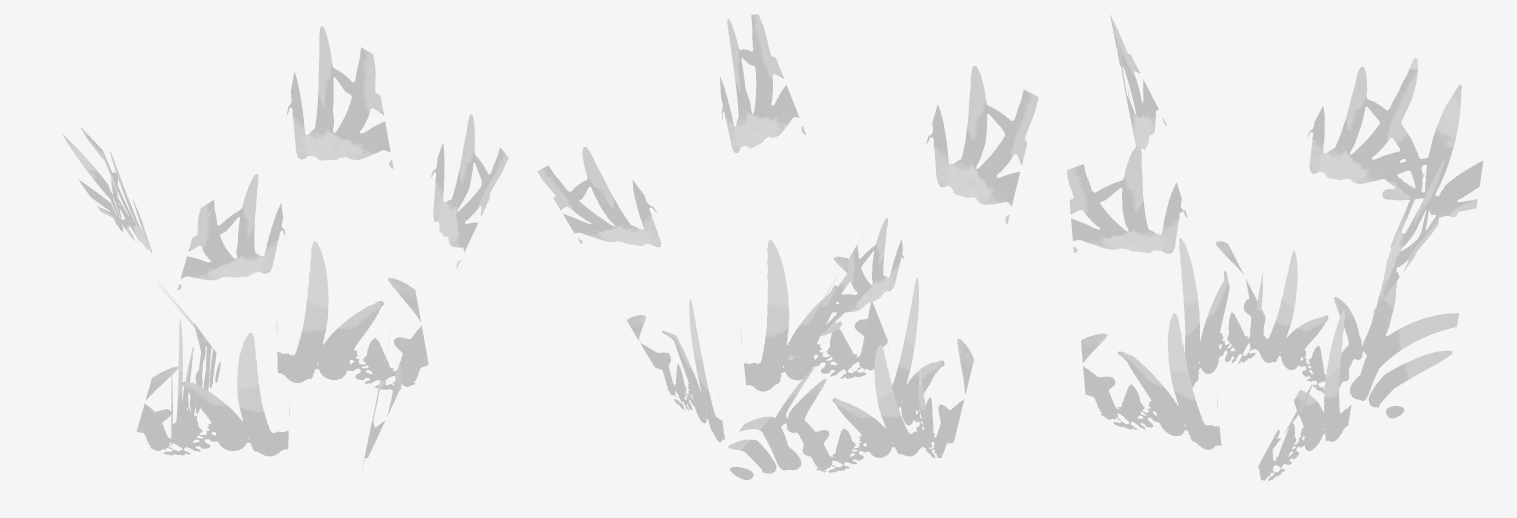
File: GrassMeadows1.fbx
3 renders of one model, left to right at view 1: azimuth 30°, elevation 25°; view 2: azimuth 150°, elevation 25°; view 3: azimuth 270°, elevation 25°, orthographic. The views are drawn at different scales.
Visible parts, largest first — view 1: GrassMeadows1; view 2: GrassMeadows1; view 3: GrassMeadows1.
Part boxes in pixels (<box>): GrassMeadows1: <box>63,26,508,489</box>; GrassMeadows1: <box>537,14,1038,479</box>; GrassMeadows1: <box>1067,14,1483,484</box>.
Size of the model in its own units: 40.77 by 44.81 by 43.78.
